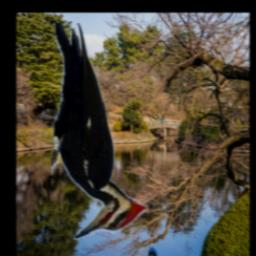Woodpecker: (51, 24, 149, 241), (144, 248, 167, 256)
